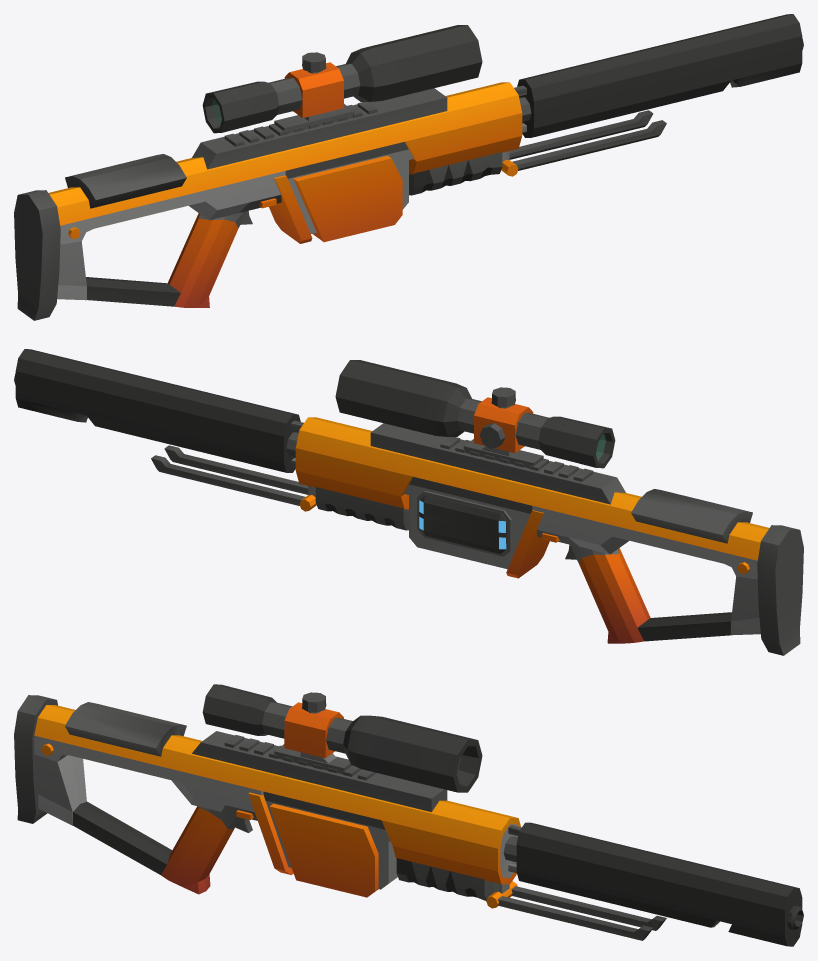
Rendered from SniperRifle_mesh.fbx.
3 renders of one model, top to bottom at view 1: azimuth 30°, elevation 25°; view 2: azimuth 150°, elevation 25°; view 3: azimuth 330°, elevation 25°, orthographic.
Parts seen in each view (by area): view 1: SniperRifle_mesh, Scope_mesh, SniperRifle_Bipod_R_mesh, SniperRifle_Bipod_L_mesh; view 2: SniperRifle_mesh, Scope_mesh, Mag_M_mesh, SniperRifle_Bipod_L_mesh, SniperRifle_Bipod_R_mesh; view 3: SniperRifle_mesh, Scope_mesh, SniperRifle_Bipod_R_mesh, SniperRifle_Bipod_L_mesh.
Part boxes in pixels (x1,y1,x2,y2): SniperRifle_mesh: [14, 14, 803, 320]; Scope_mesh: [202, 25, 482, 133]; SniperRifle_Bipod_R_mesh: [512, 120, 666, 170]; SniperRifle_Bipod_L_mesh: [509, 110, 653, 159]; SniperRifle_mesh: [14, 349, 803, 655]; Scope_mesh: [335, 360, 615, 468]; Mag_M_mesh: [419, 494, 507, 553]; SniperRifle_Bipod_L_mesh: [151, 455, 305, 505]; SniperRifle_Bipod_R_mesh: [164, 445, 308, 494]; SniperRifle_mesh: [14, 695, 803, 946]; Scope_mesh: [202, 684, 482, 792]; SniperRifle_Bipod_R_mesh: [498, 896, 653, 940]; SniperRifle_Bipod_L_mesh: [511, 886, 666, 930].
Bounding box in the file's own units: 109 × 29.68 × 7.57.
3 materials, 1 textured.
